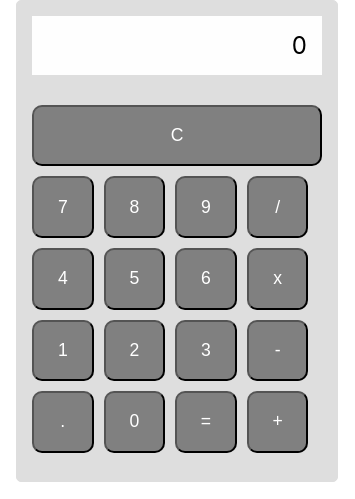
Calculator › should have working number buttons
Click the button with id "number2" at (135, 351), box [104,320,166,382]
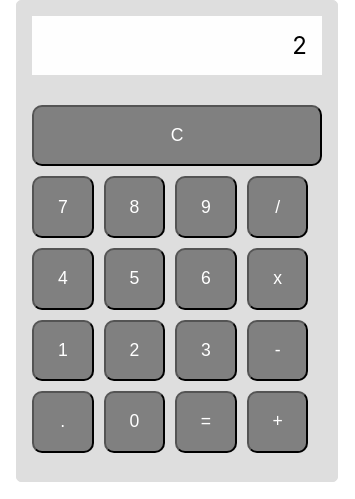
Expected: the text with class "display" reads "2", [292,31,307,60]
Click the button with id "operator_add" at (278, 422), box [247,391,309,453]
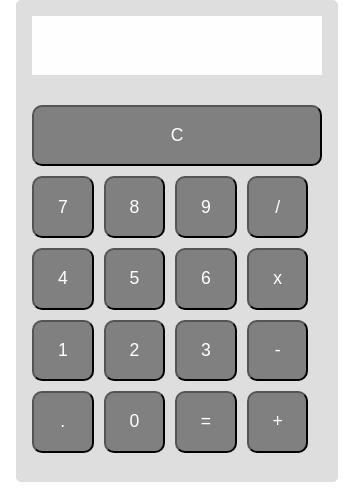
Click the button with id "number3" at (206, 351), box [175,320,237,382]
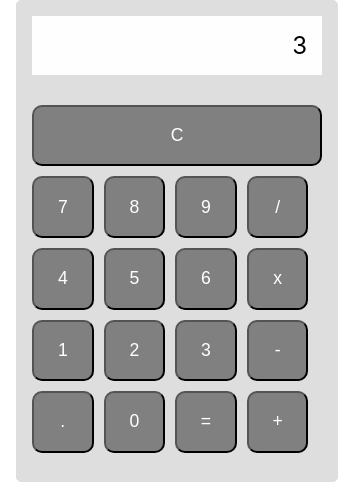
Click the button with id "operator_equals" at (206, 422), box [175,391,237,453]
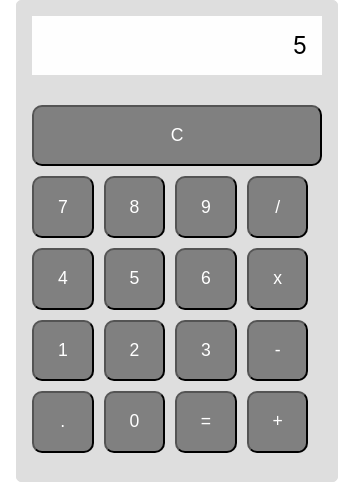
Expected: the text with class "display" reads "5", [293,31,307,60]
